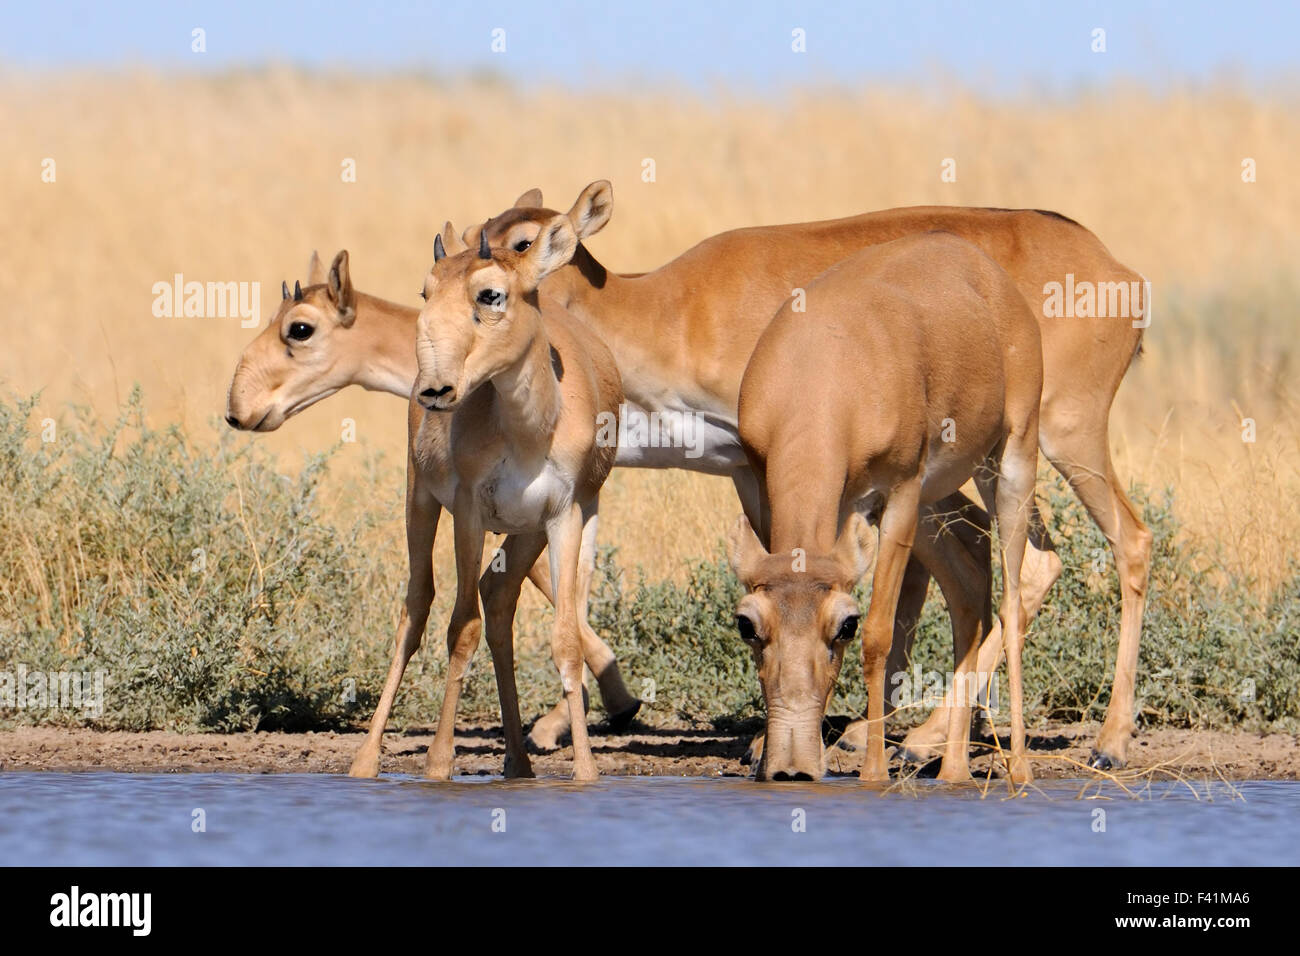saiga: (727, 229, 1033, 811), (356, 237, 630, 775), (218, 268, 411, 442)
